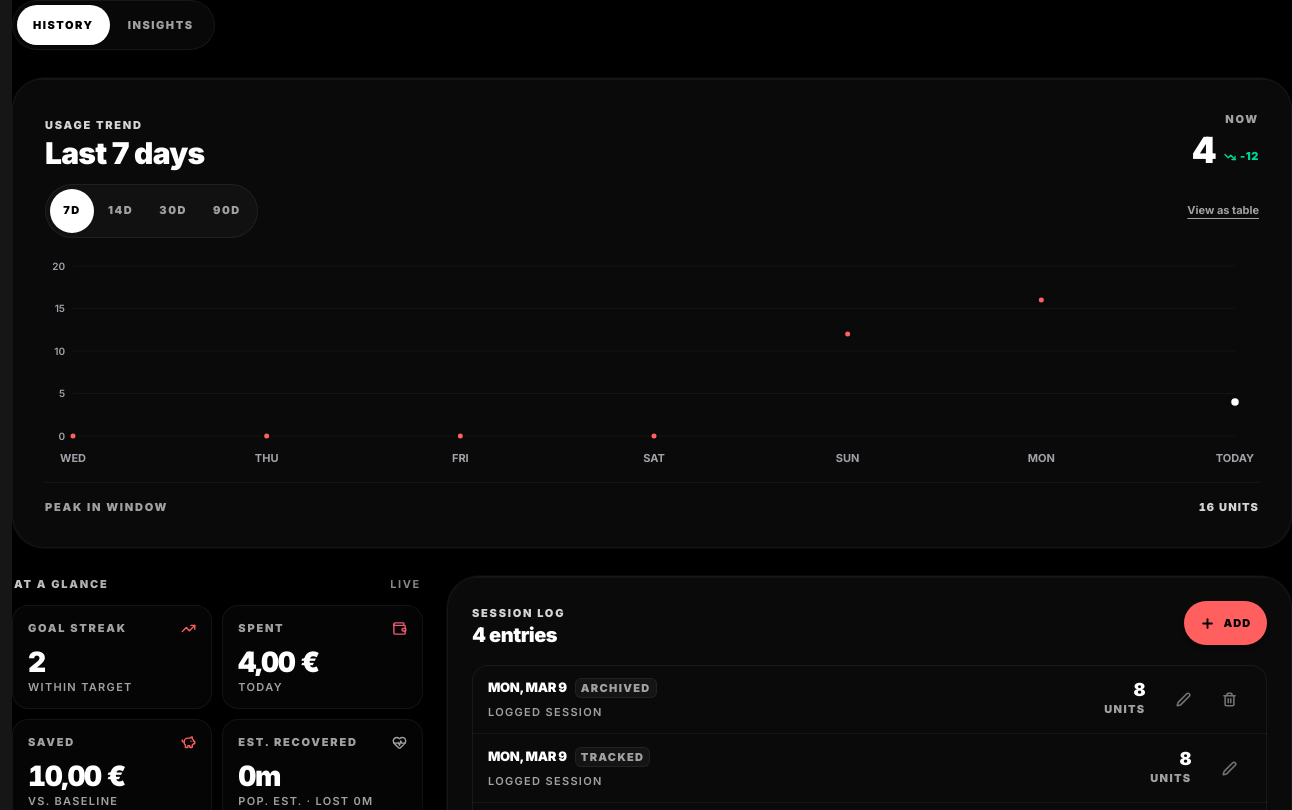
Scenario: HistoryScreen Accessible Chart Table › toggles the data table view and manages aria-expanded state
Click to open table
Click the button "View as table".
click(1223, 211)  # box [1187,198,1259,223]
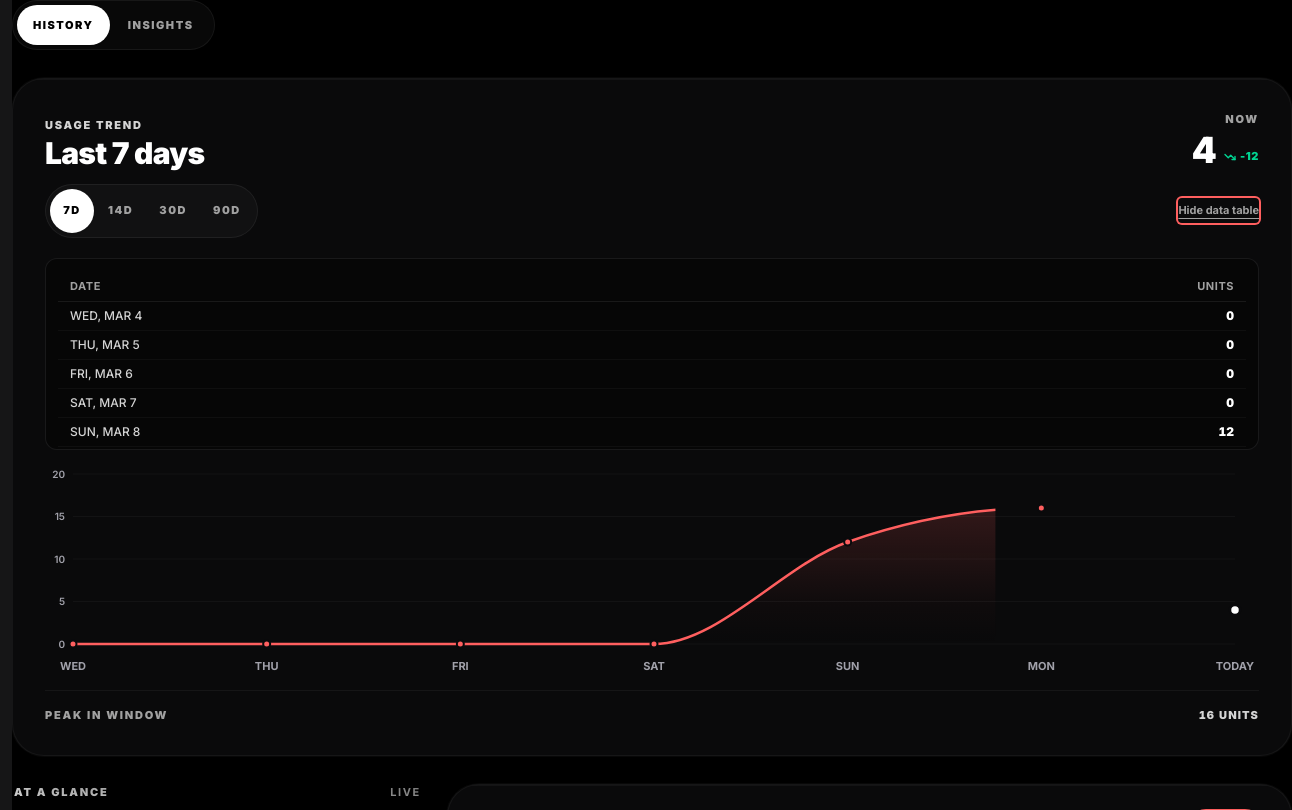
expect the button named "view as table" is expanded: met
expect the button named "view as table" reads "Hide data table": met
expect the table is shown: met, box [58,270,1246,450]
Click again to hide table
Click the button named "view as table".
click(1219, 211)  # box [1178,198,1259,223]
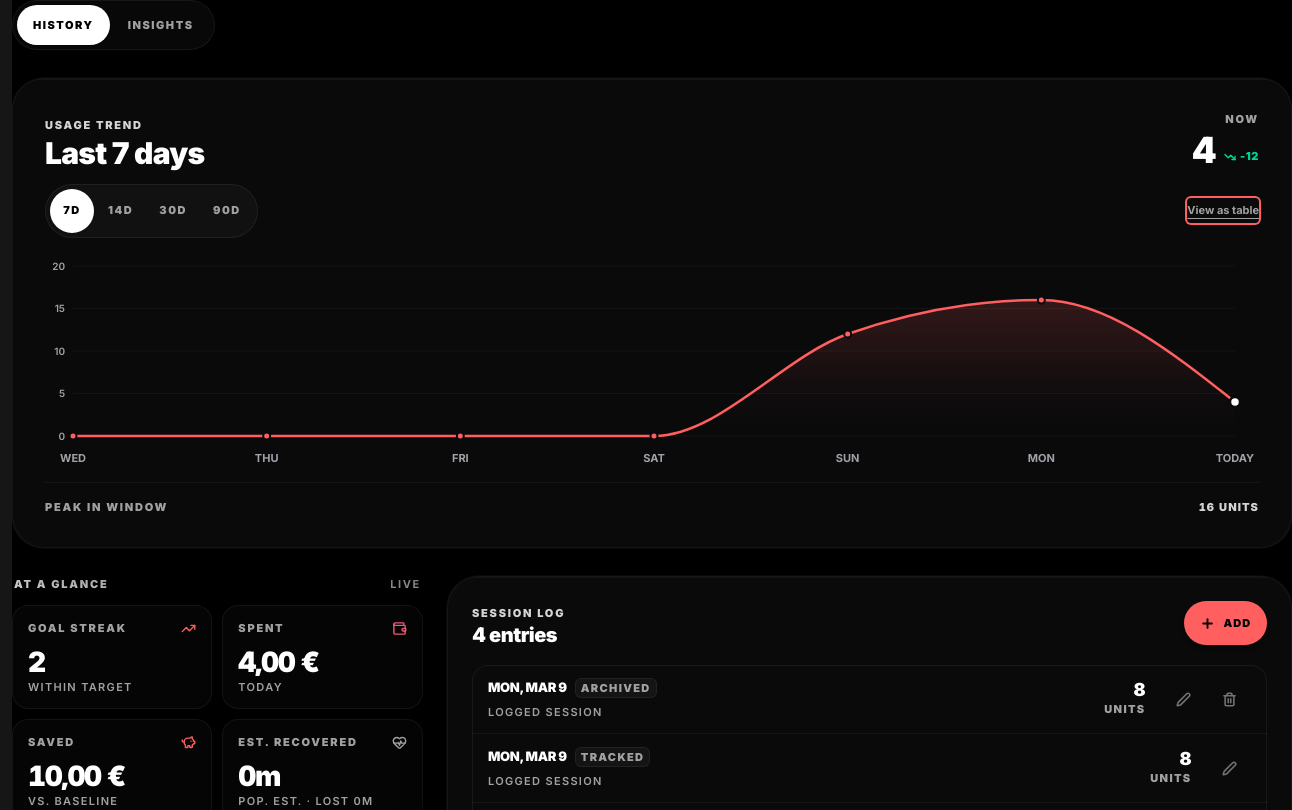
expect the button "View as table" is collapsed: met, box [1187,198,1259,223]
expect the button "View as table" is shown: met, box [1187,198,1259,223]
expect the table is gone: met
